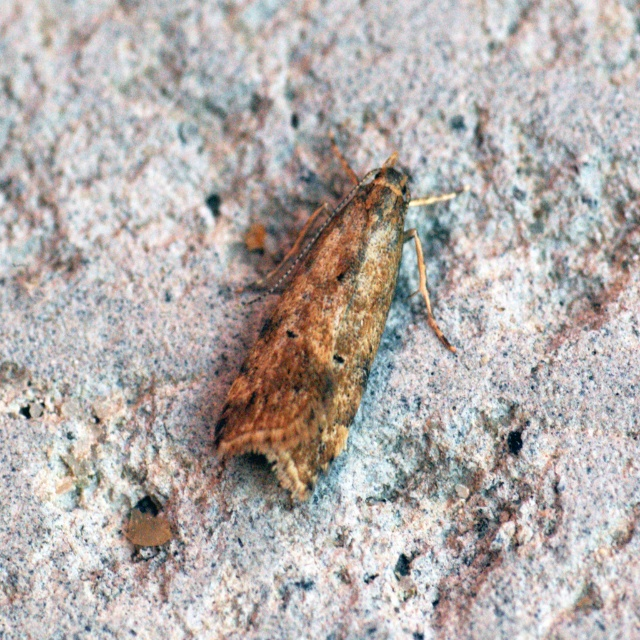Moths and butterflies: (208, 121, 476, 518)
